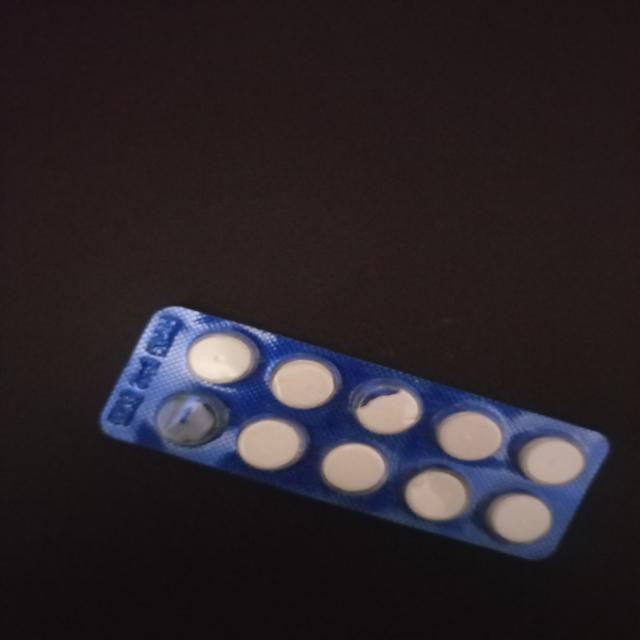defect: (345, 375, 427, 437), (151, 387, 231, 449)
